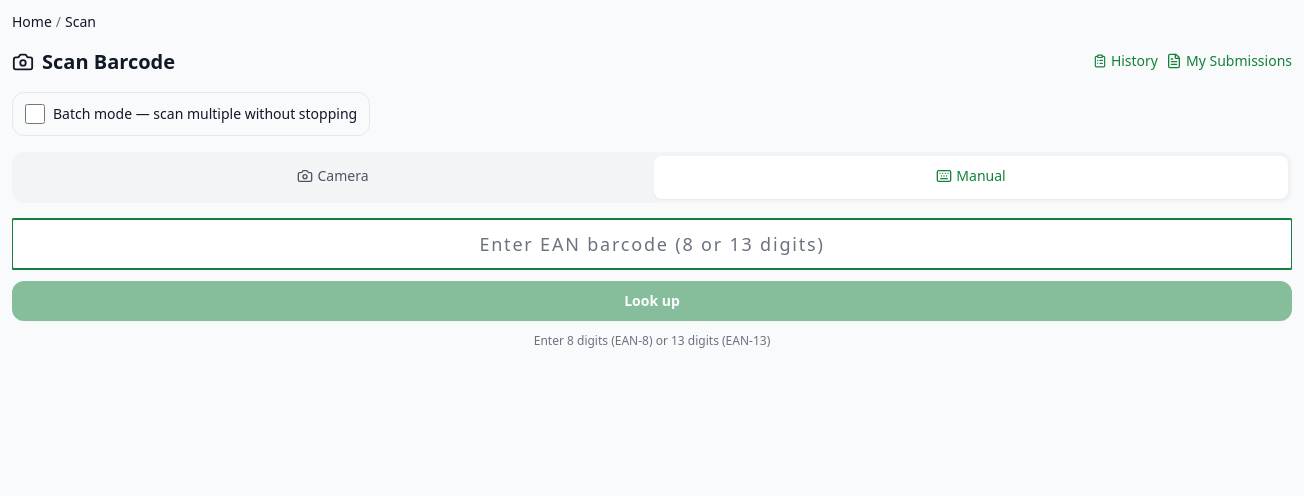
Test: ScanPage › batch mode Clear button removes all scanned items
Click the checkbox labelled "Batch mode — scan multiple without stopping" at {"x": 35, "y": 114}, box x1=25 y1=104 x2=45 y2=124
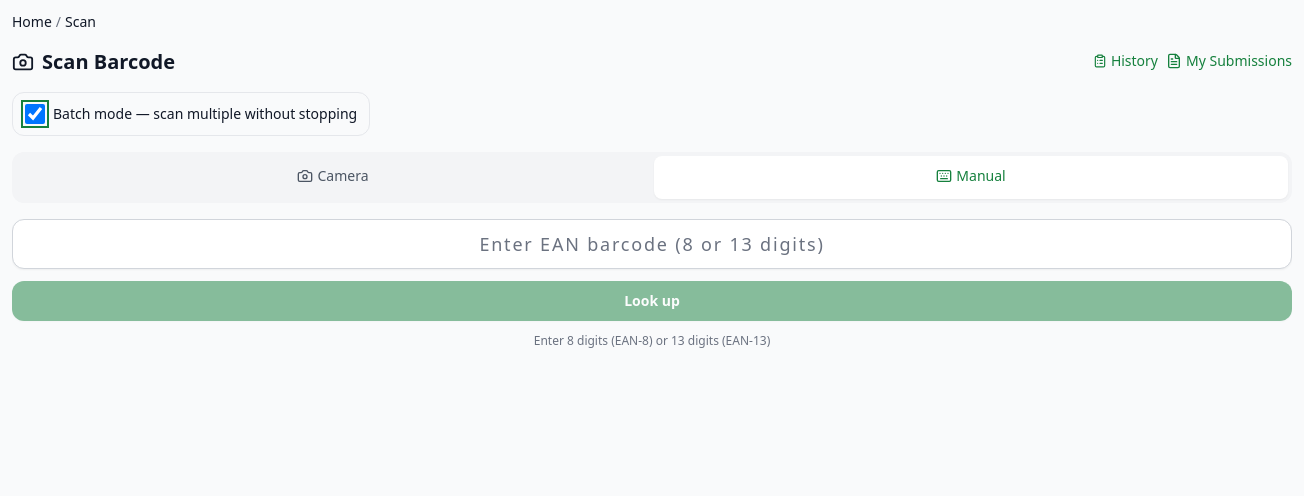
Click the button "Manual" at {"x": 971, "y": 178}, box x1=654 y1=156 x2=1288 y2=199
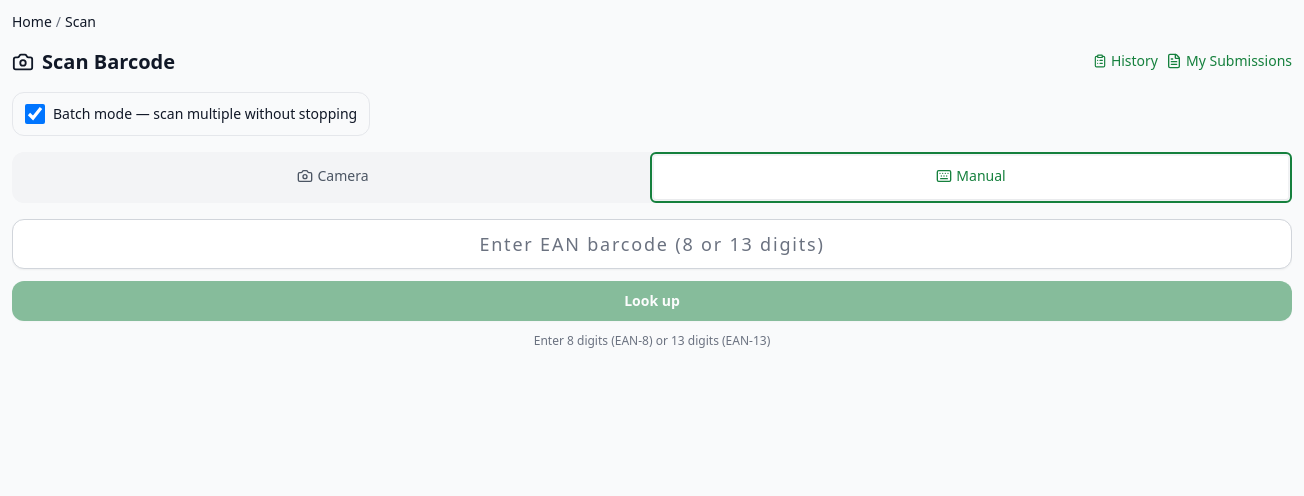
Type "5901234123457" into the field with placeholder "Enter EAN barcode (8 or 13 digits)" at {"x": 652, "y": 244}, box x1=12 y1=219 x2=1292 y2=269
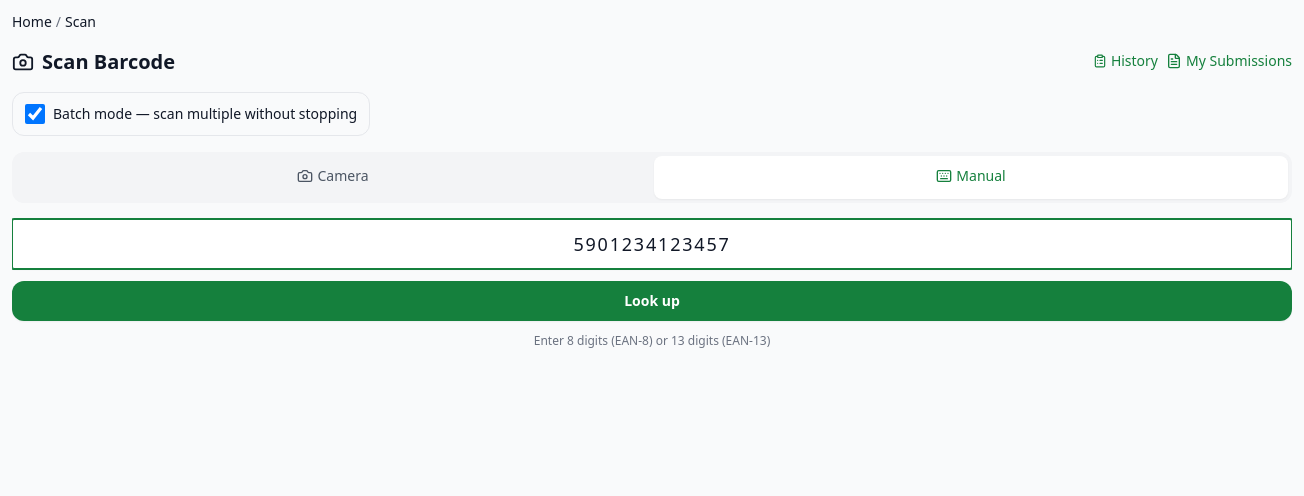
Click the button "Look up" at {"x": 652, "y": 301}, box x1=12 y1=281 x2=1292 y2=321
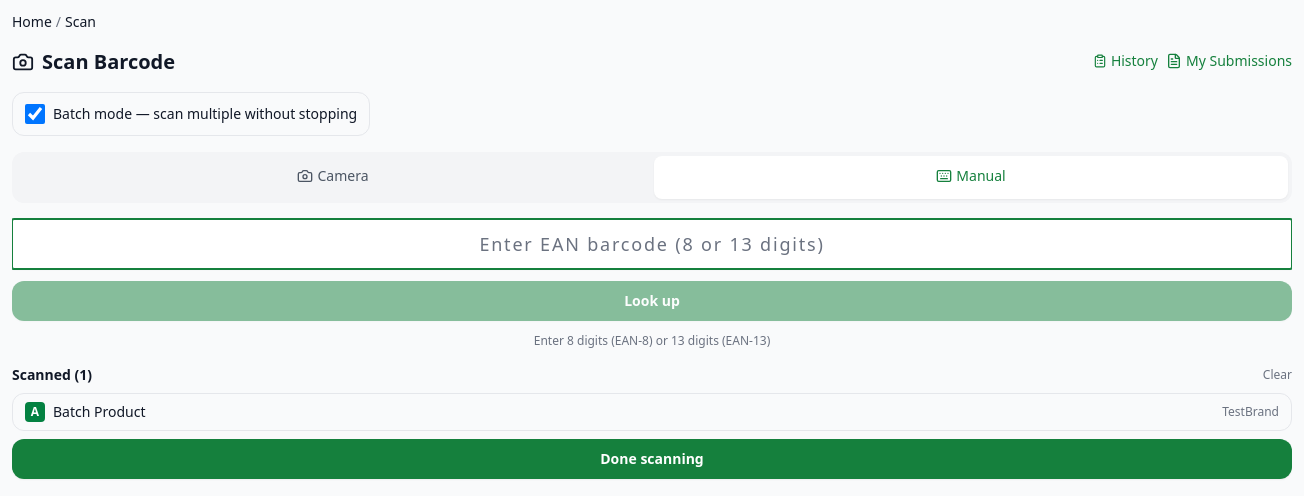
Result: the heading "Scanned (1)" is shown at x1=12 y1=365 x2=92 y2=385
Click the button "Clear" at {"x": 1277, "y": 375}, box x1=1263 y1=367 x2=1292 y2=383
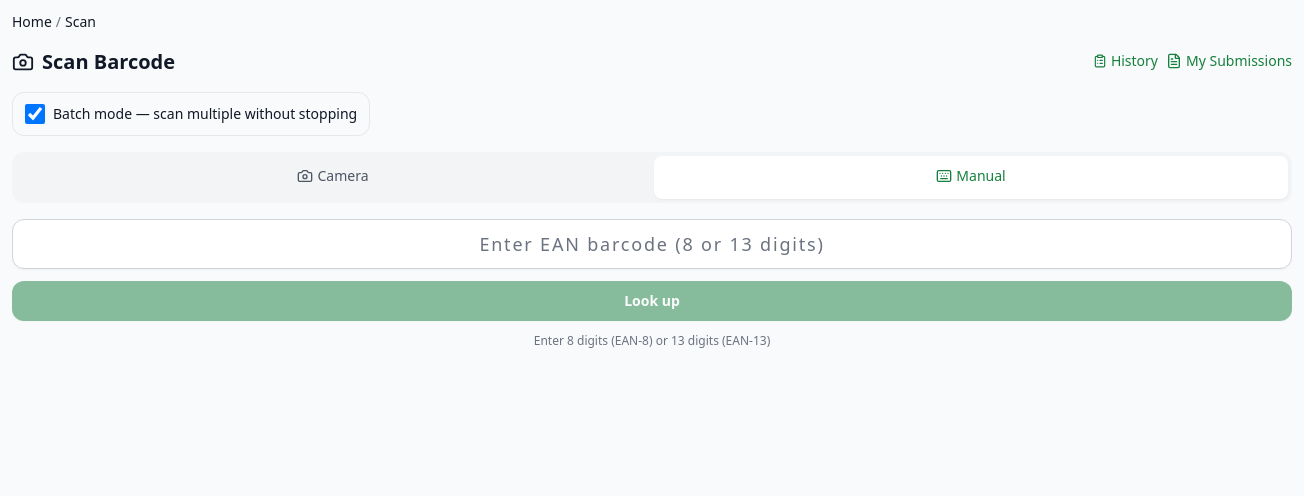
Result: the heading "Scanned (1)" is gone
Result: the button "Batch Product" is gone
